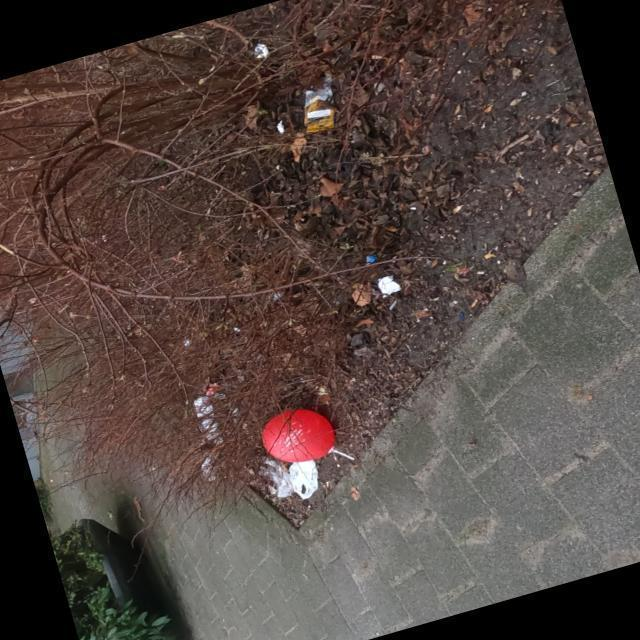Paper: (302, 74, 340, 134), (258, 456, 294, 498), (289, 460, 319, 500), (376, 274, 402, 299)
